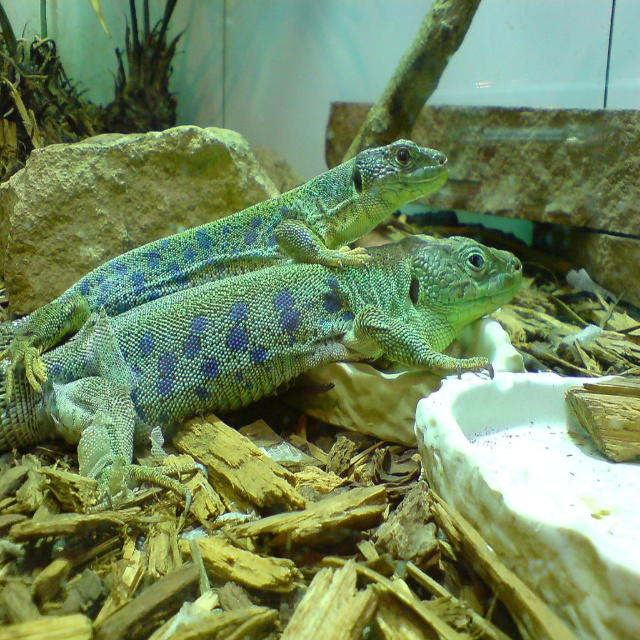Lizard: (0, 231, 520, 530), (5, 127, 447, 328)
